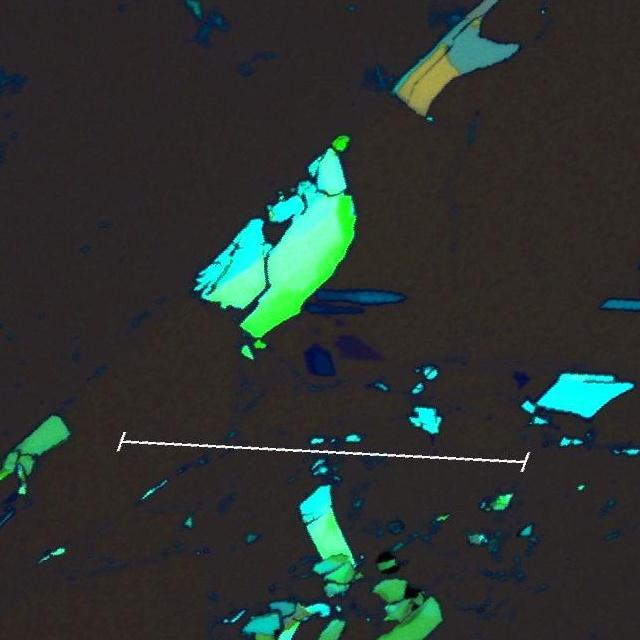monolayer-eWW4: (337, 334, 385, 361)
